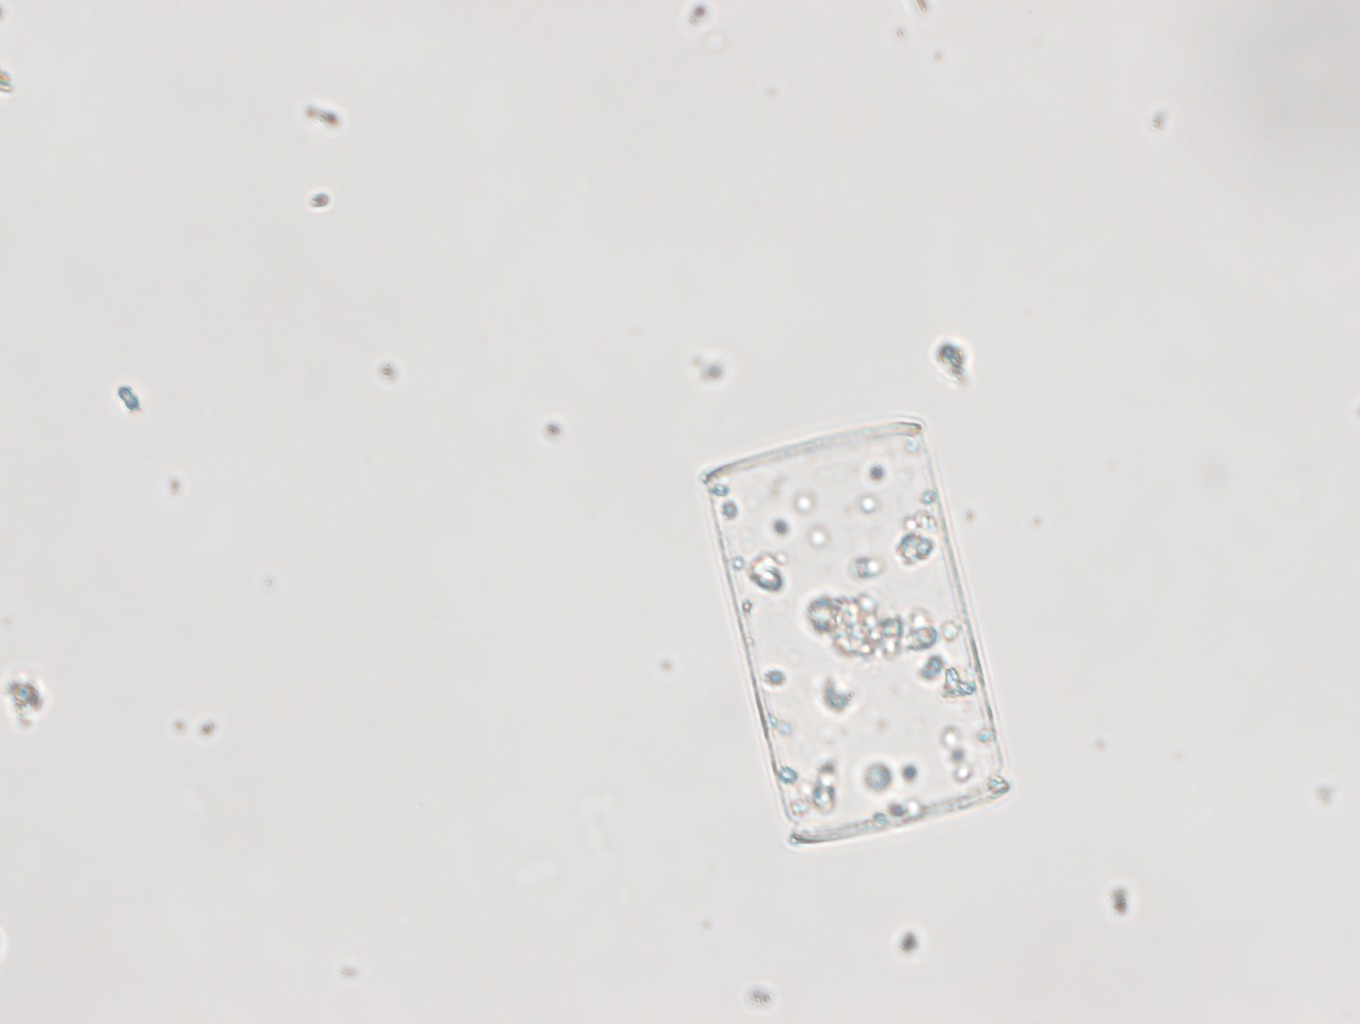guinardia flaccida: (707, 419, 1007, 841)
